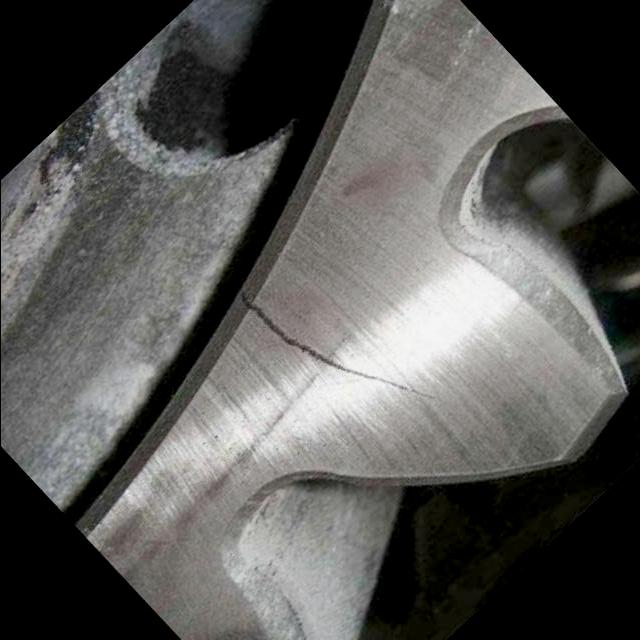defect: (234, 286, 446, 404)
